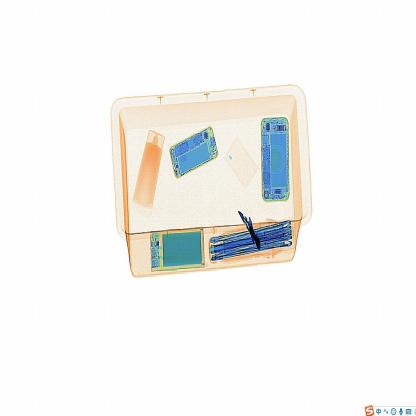wrench: (238, 208, 273, 262)
